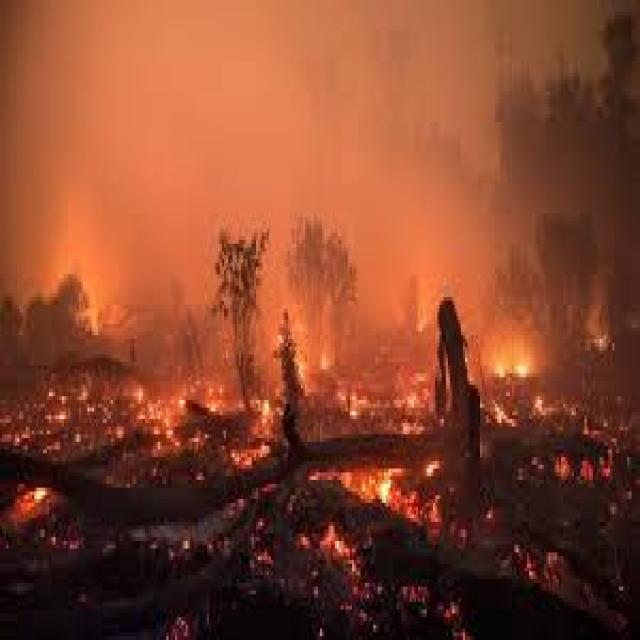Fire: (2, 190, 640, 640)
Smoke: (0, 0, 640, 331)
